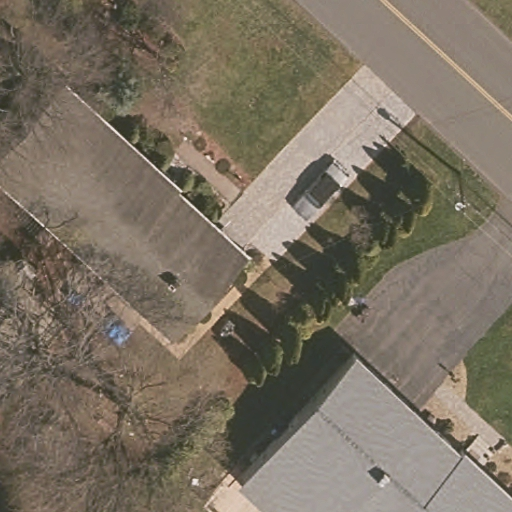DT: (452, 200, 474, 215)
